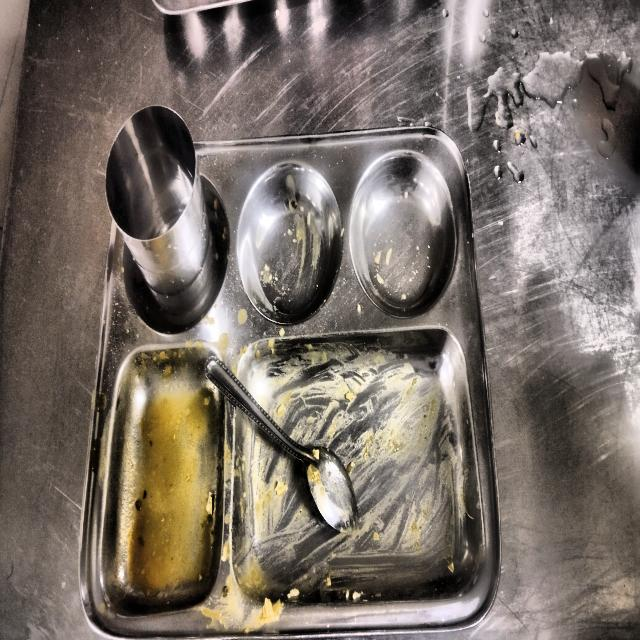Gulab-jamun: (114, 129, 486, 599)
